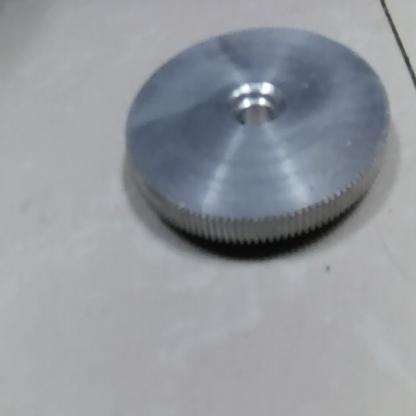FOD: (120, 22, 395, 258)
